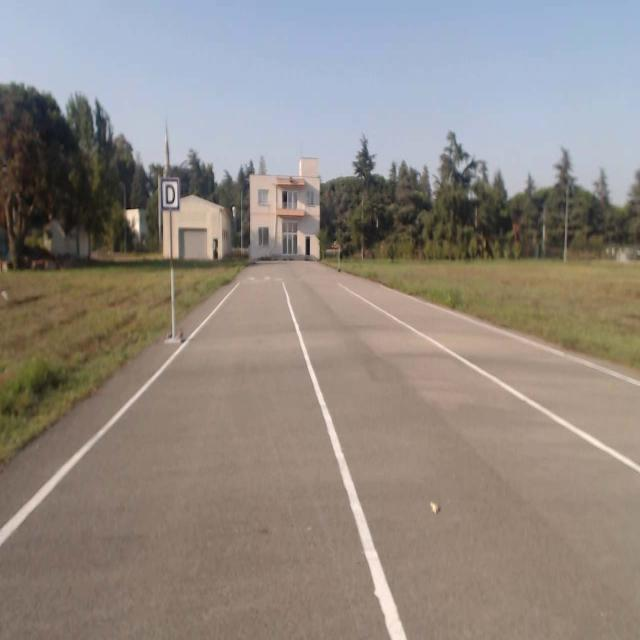durak: (161, 176, 179, 208)
